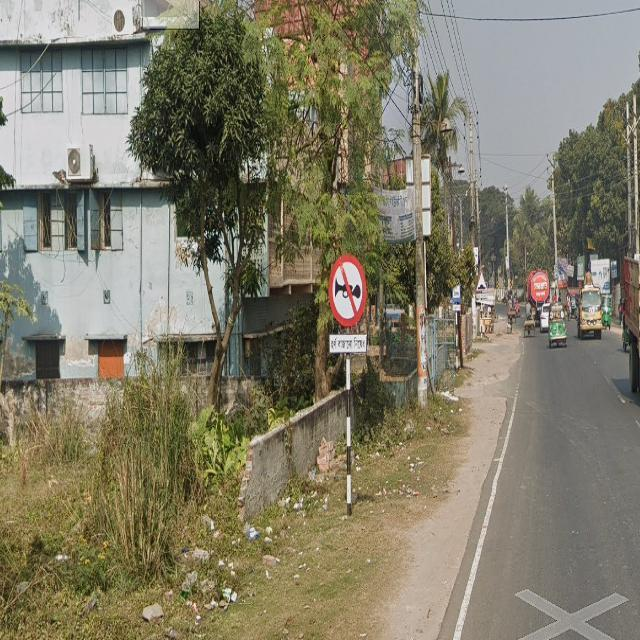Horn-blowing-is-prohibited: (324, 248, 374, 364)
